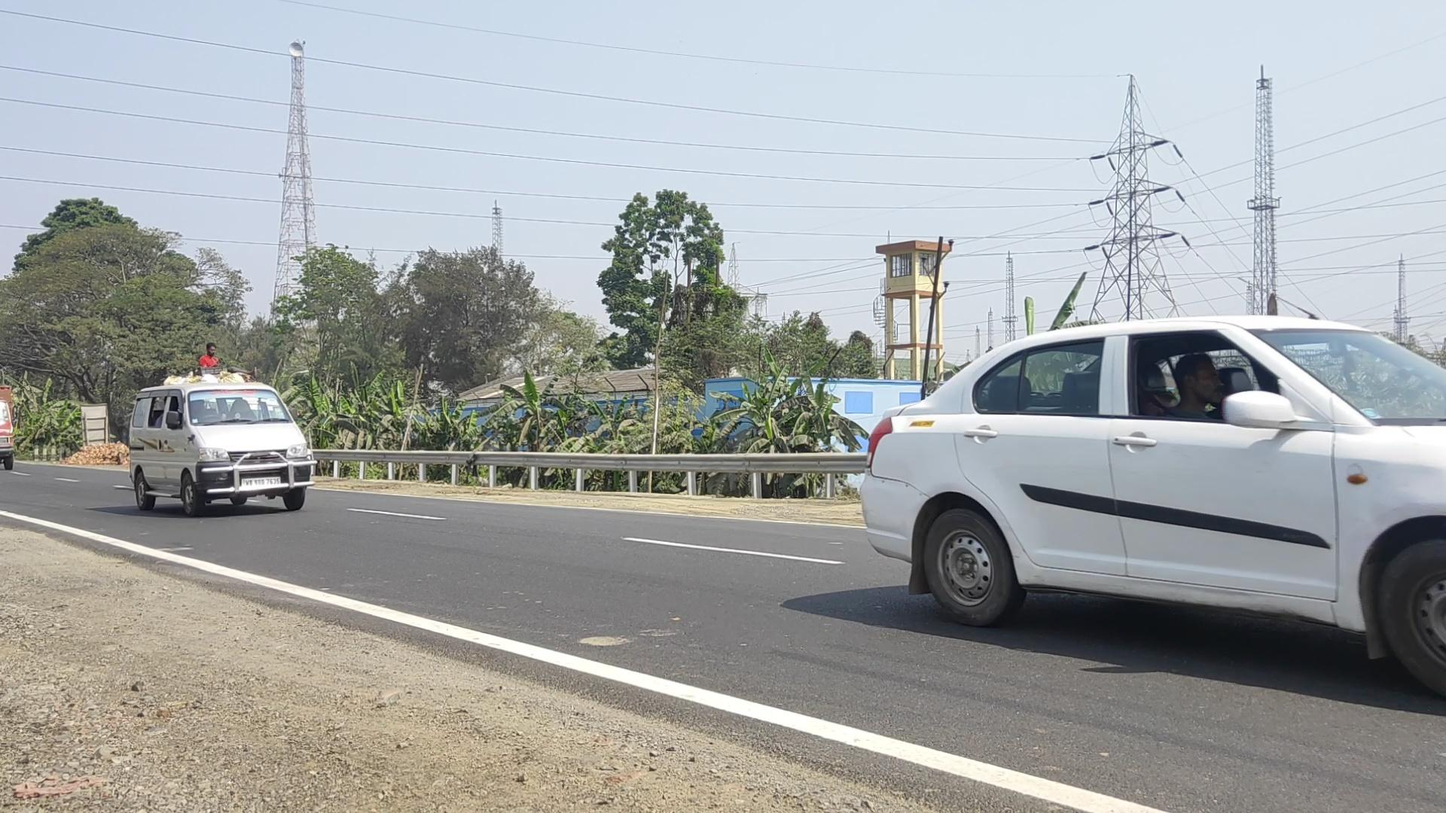car: (860, 315, 1446, 701)
van: (128, 383, 317, 518)
